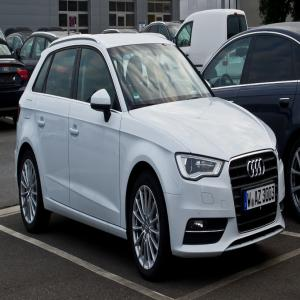Vehicle-registration-plate: (243, 181, 277, 213)
